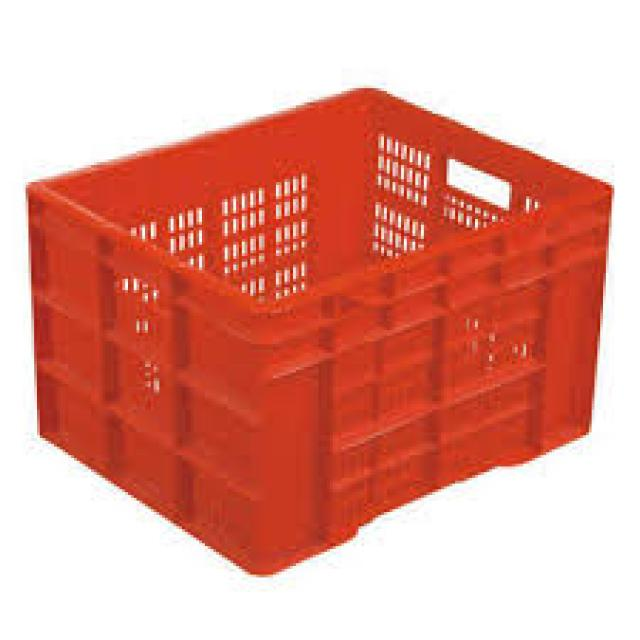basket: (25, 80, 626, 583)
